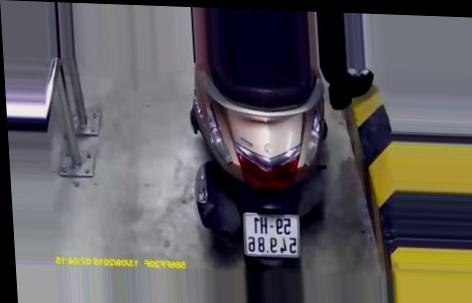License_Plate: (239, 208, 308, 261)
